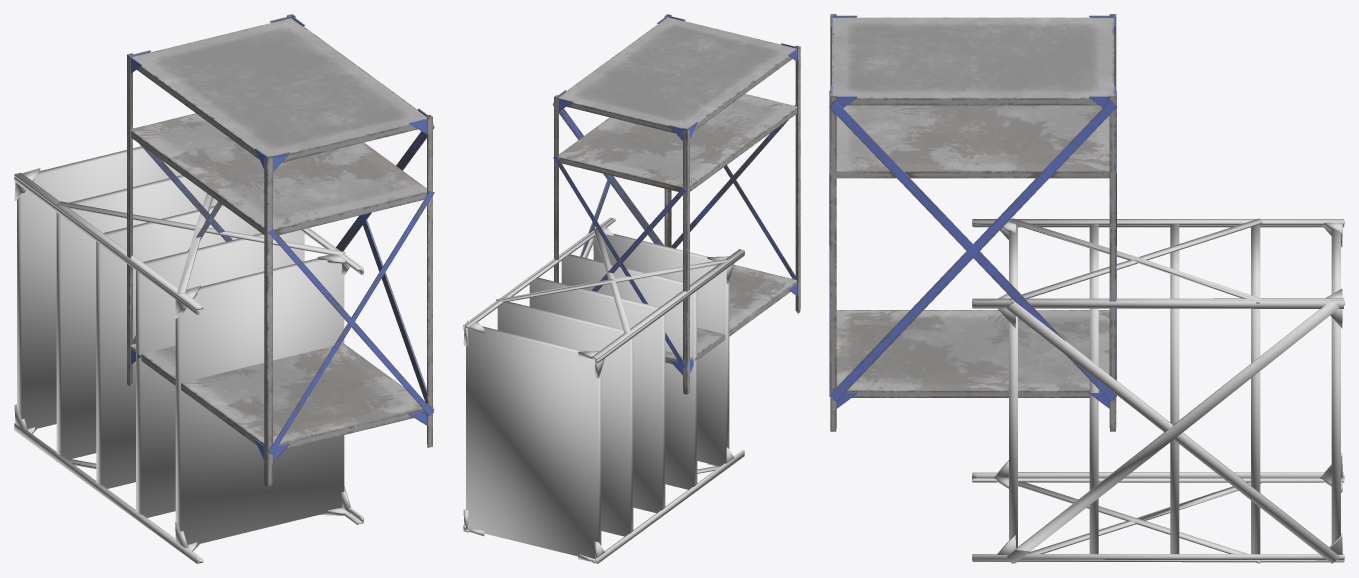
The model's file is SM_Racks_Large.fbx.
3 renders of one model, left to right at view 1: azimuth 30°, elevation 25°; view 2: azimuth 150°, elevation 25°; view 3: azimuth 270°, elevation 25°, orthographic. The views are drawn at different scales.
Parts seen in each view (by area): view 1: SM_Racks_Large_ConvexHulls, SM_Racks_Large; view 2: SM_Racks_Large_ConvexHulls, SM_Racks_Large; view 3: SM_Racks_Large, SM_Racks_Large_ConvexHulls.
Boxes of the visible parts, x1,y1,x2,y2 form: SM_Racks_Large_ConvexHulls: (14, 146, 363, 563); SM_Racks_Large: (127, 14, 434, 486); SM_Racks_Large_ConvexHulls: (463, 217, 744, 563); SM_Racks_Large: (553, 14, 800, 394); SM_Racks_Large: (829, 14, 1117, 431); SM_Racks_Large_ConvexHulls: (972, 218, 1344, 563).
Size of the model in its own units: 1.24 by 3.19 by 3.19.
